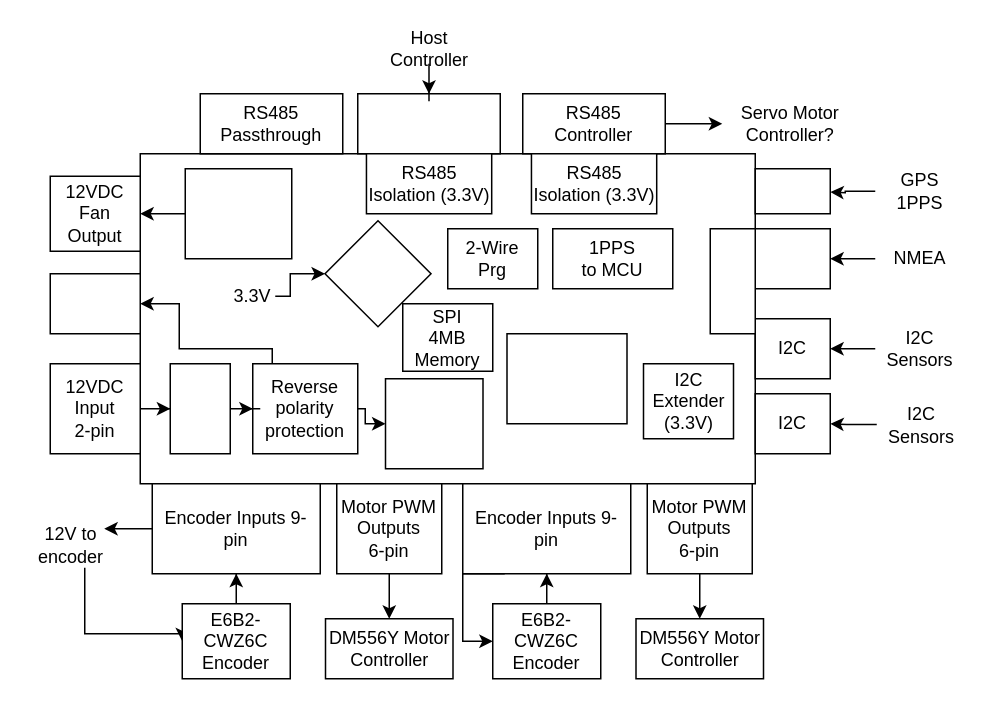
Some shapes in this 992 by 717 pixel diagram are drawn without their labels. The centre of each missing label's shape, as x and y in pixels:
12V Out: the point at 94,303
12V to 3.3V: the point at 433,423
1PPS: the point at 792,190
I2C temp/humidity sensor (3.3V): the point at 566,378
MAX232: the point at 732,280
MCU: the point at 377,273
MCU GPIO to 12V On/Off: the point at 238,213
RS323 (GPS): the point at 792,258
RS485 Device Input: the point at 428,123
Switch: the point at 199,408
